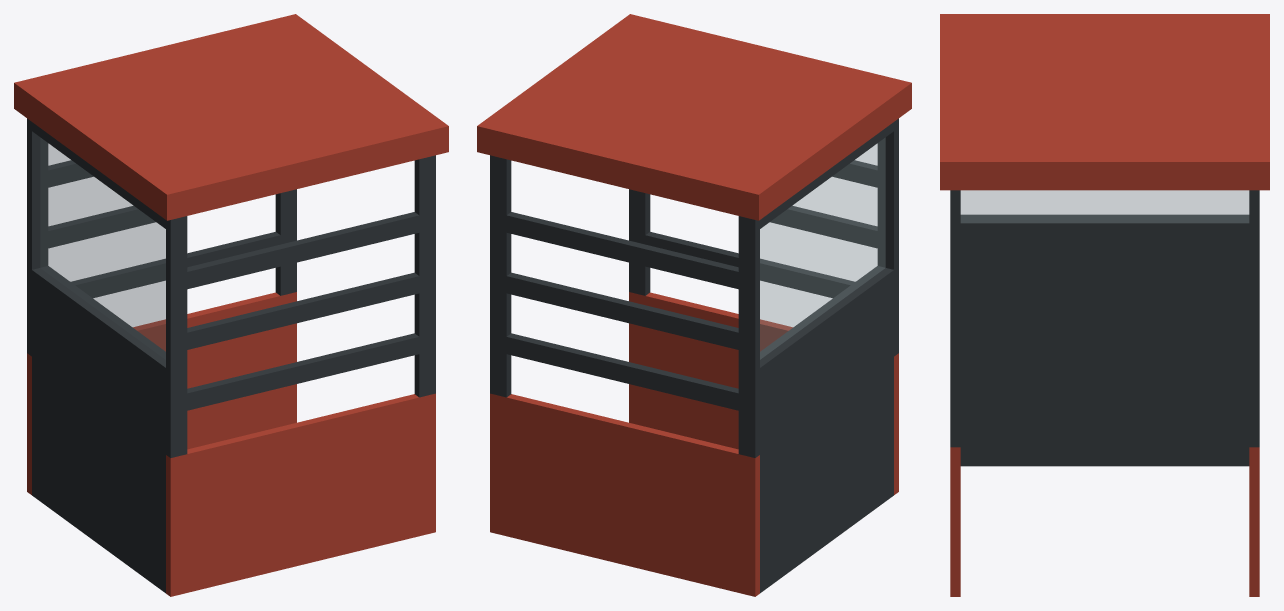
The model's file is skid_steer_cage.glb.
3 renders of one model, left to right at view 1: azimuth 30°, elevation 25°; view 2: azimuth 150°, elevation 25°; view 3: azimuth 270°, elevation 25°, orthographic. The views are drawn at different scales.
Parts seen in each view (by area): view 1: body:compound; view 2: body:compound; view 3: body:compound.
Part boxes in pixels (bbox=[...]): body:compound: bbox=[14, 14, 448, 596]; body:compound: bbox=[477, 14, 911, 596]; body:compound: bbox=[940, 14, 1269, 596].
Bounding box in the file's own units: 1.06 × 1.47 × 1.
